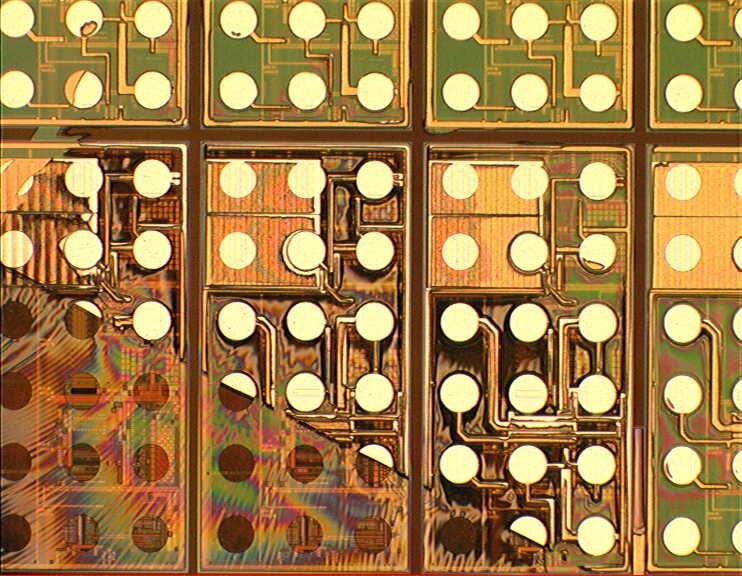COATING BAD: (1, 262, 603, 576)
